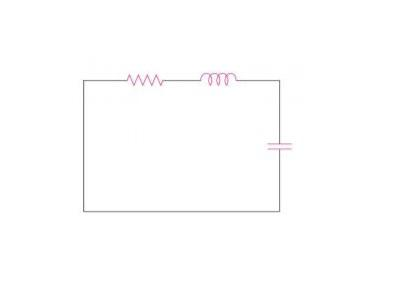resistor: (119, 65, 176, 90)
